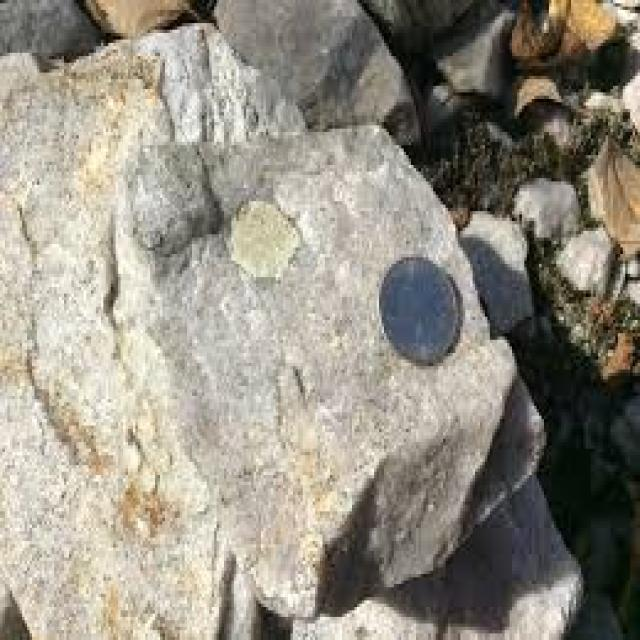Metamorphic: (2, 56, 578, 640)
